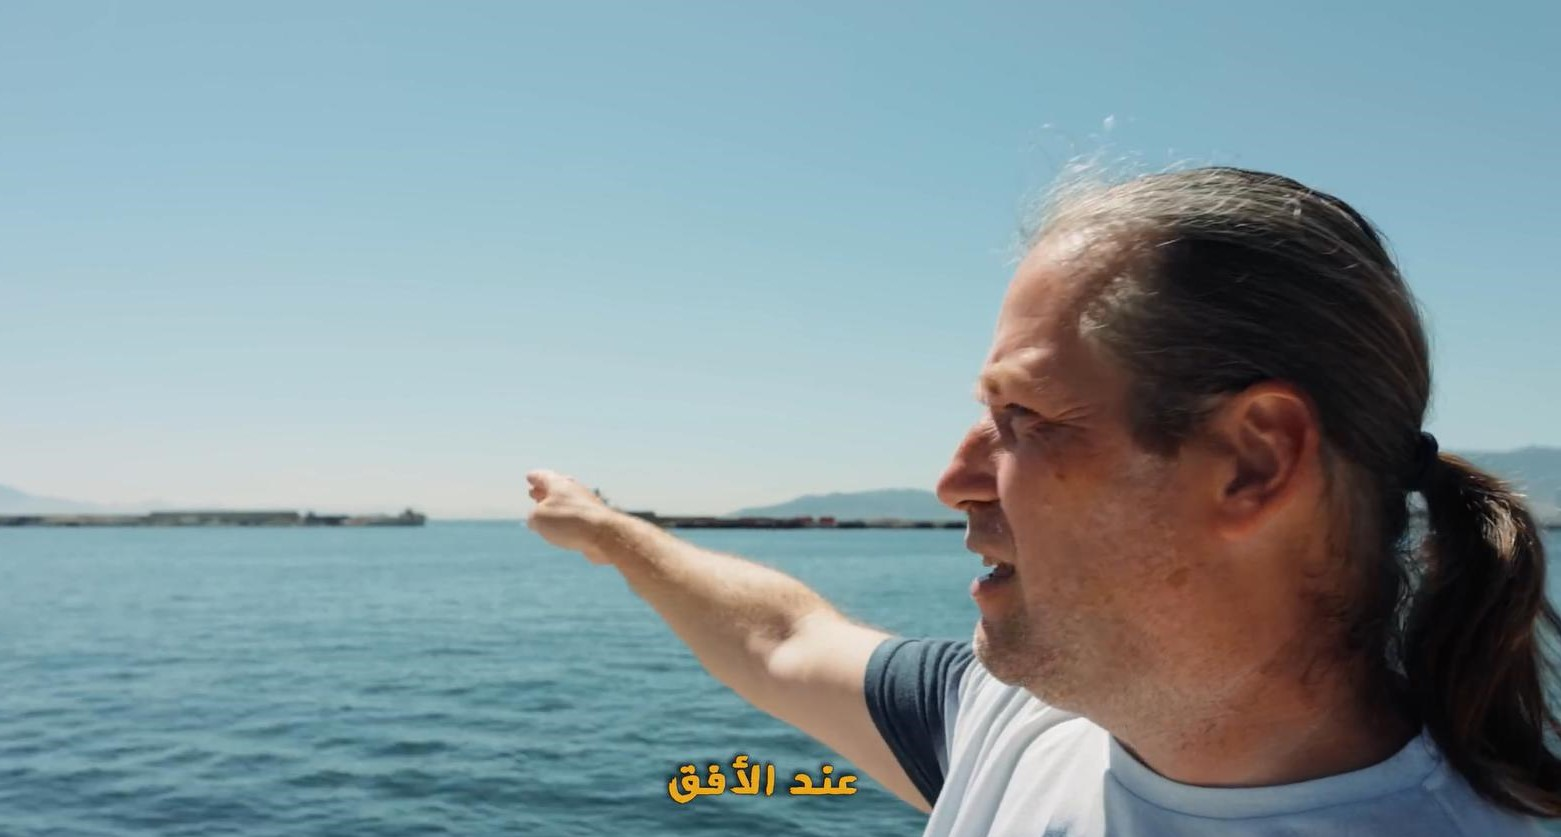without_mask: (972, 355, 1156, 662)
